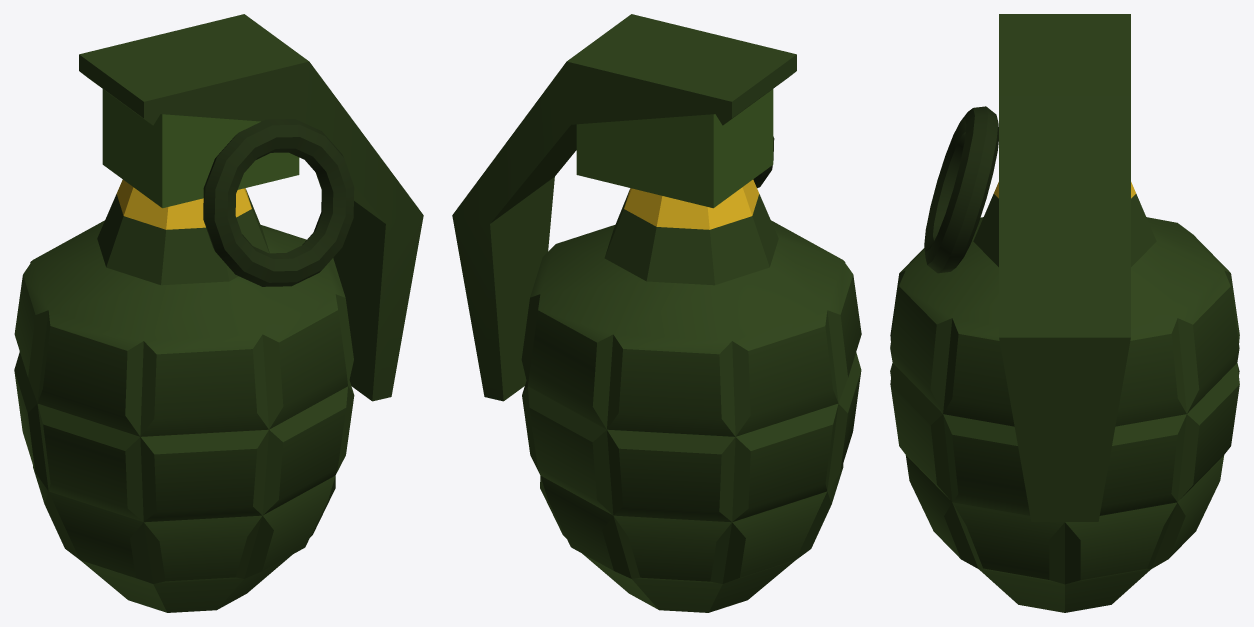
Rendered from grenade.fbx.
3 renders of one model, left to right at view 1: azimuth 30°, elevation 25°; view 2: azimuth 150°, elevation 25°; view 3: azimuth 270°, elevation 25°, orthographic.
Parts seen in each view (by area): view 1: Grenade; view 2: Grenade; view 3: Grenade.
Part boxes in pixels (<box>): Grenade: <box>14,14,423,612</box>; Grenade: <box>452,14,861,612</box>; Grenade: <box>890,14,1239,612</box>.
Size of the model in its own units: 11.11 by 9.3 by 15.91.
